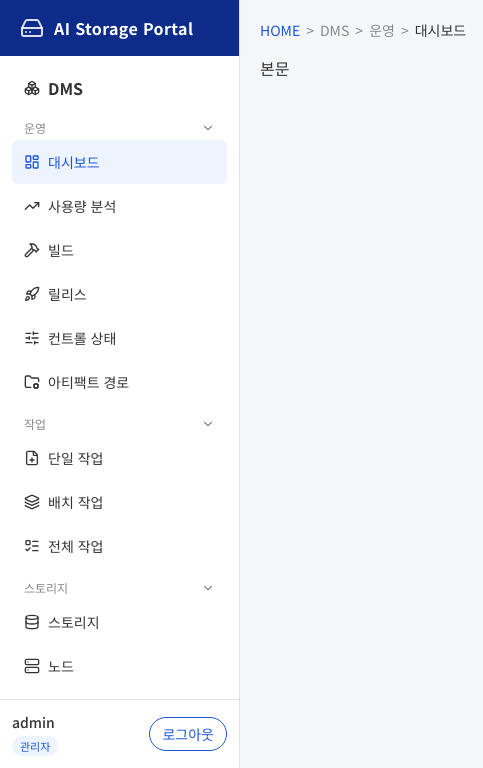
Scenario: 독립 토글: 스토리지를 접어도 운영은 열린 채다
This screenshot has width=483, height=768.
Expected: the link "노드" is shown, x1=24 y1=656 x2=74 y2=676
Click the button "스토리지".
click(120, 584)  # box x1=12 y1=568 x2=227 y2=600
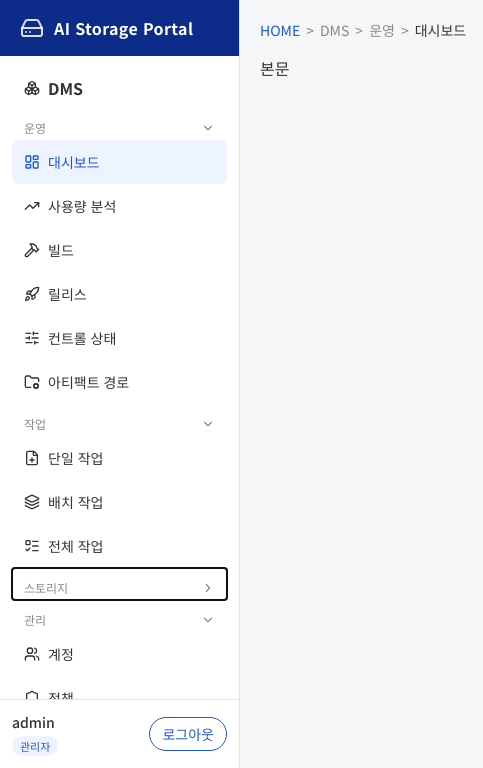
Expected: the link "대시보드" is shown, x1=12 y1=140 x2=227 y2=184
Expected: the link "노드" is gone
Click the button "스토리지".
click(120, 584)  # box x1=12 y1=568 x2=227 y2=600
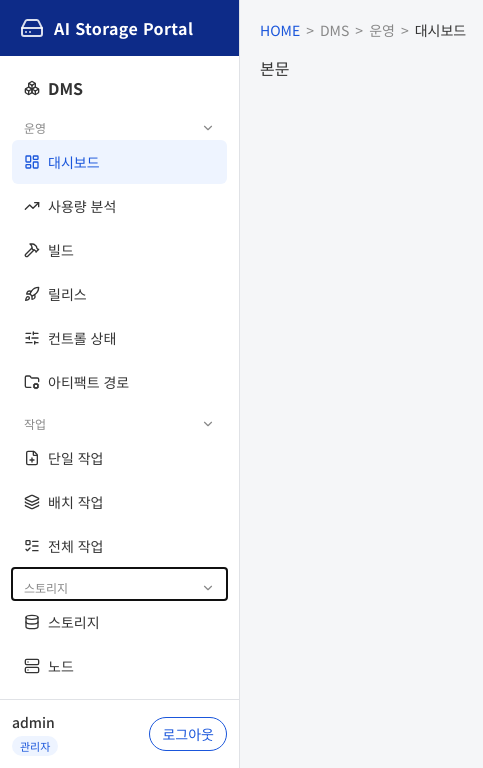
Expected: the link "노드" is shown, x1=24 y1=656 x2=74 y2=676
